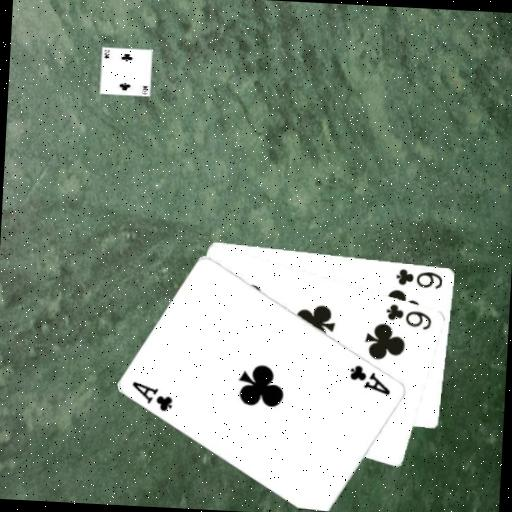6C: (383, 300, 435, 332), (394, 265, 446, 291)
AC: (128, 378, 177, 414), (346, 361, 394, 397)
